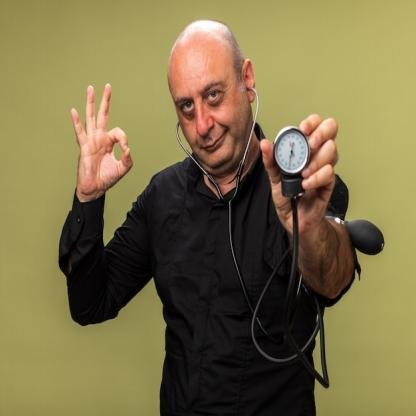ok: (70, 80, 136, 197)
